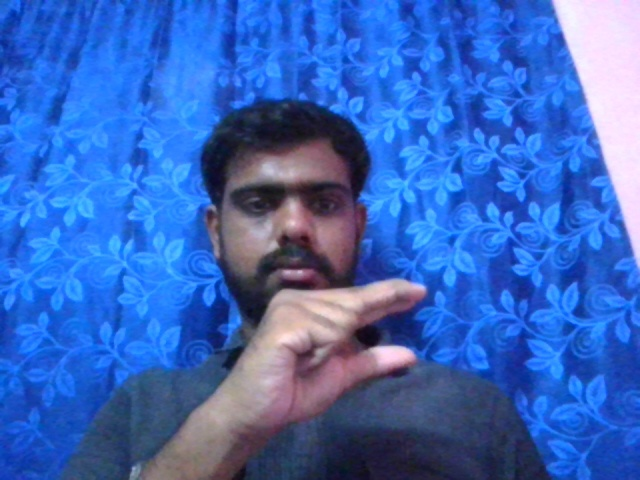No: (212, 264, 432, 434)
